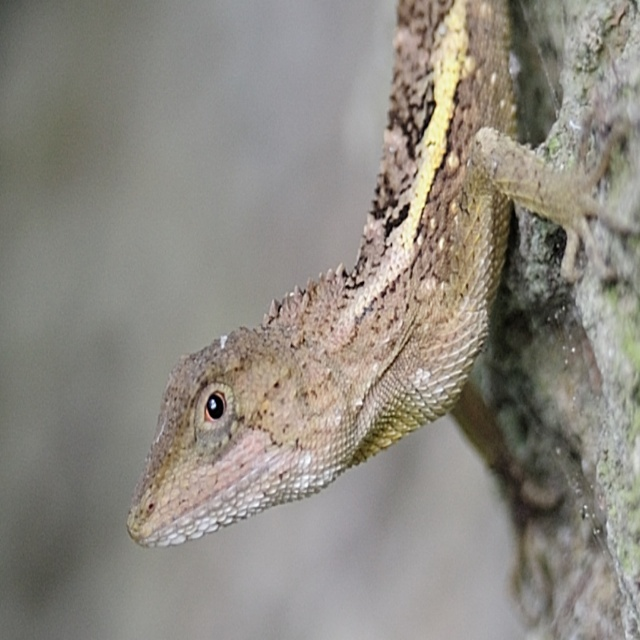Lizard: (125, 0, 640, 550)
